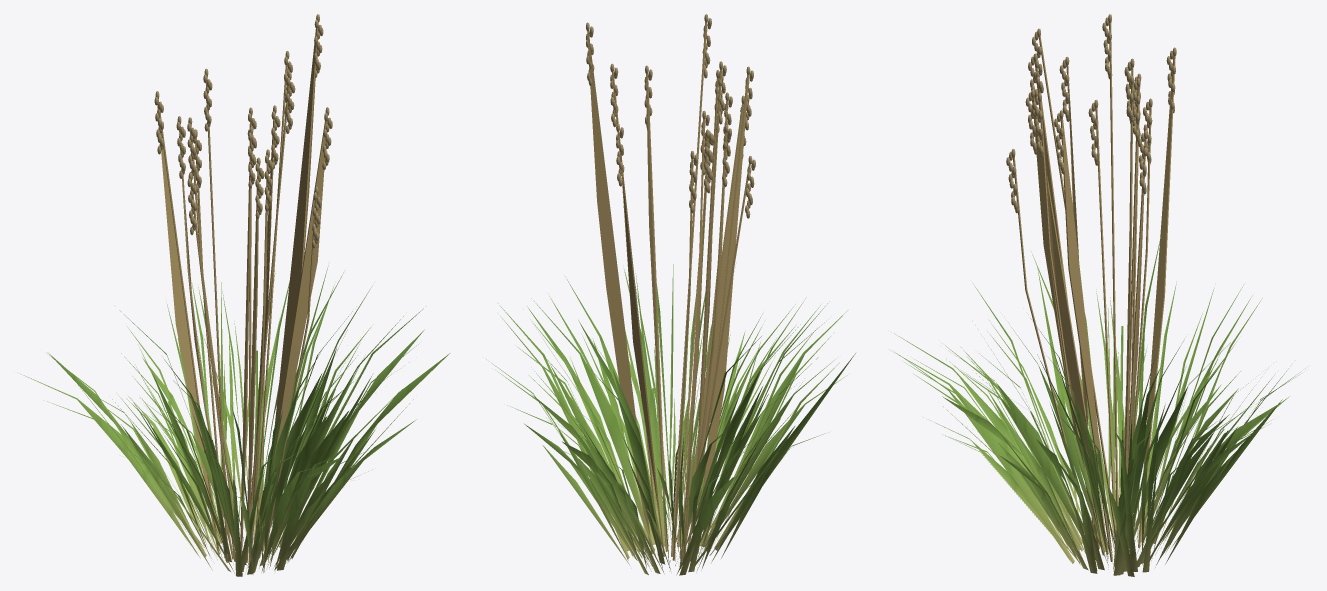
File: tall-grass.glb
3 renders of one model, left to right at view 1: azimuth 30°, elevation 25°; view 2: azimuth 150°, elevation 25°; view 3: azimuth 270°, elevation 25°, orthographic. The views are drawn at different scales.
Parts seen in each view (by area): view 1: Tall_Grass; view 2: Tall_Grass; view 3: Tall_Grass.
Boxes of the visible parts, x1,y1,x2,y2 form: Tall_Grass: [17, 14, 449, 576]; Tall_Grass: [486, 14, 855, 575]; Tall_Grass: [890, 14, 1305, 576].
Bounding box in the file's own units: 0.8292 × 1.15 × 0.8278.
3 materials, 1 textured.
